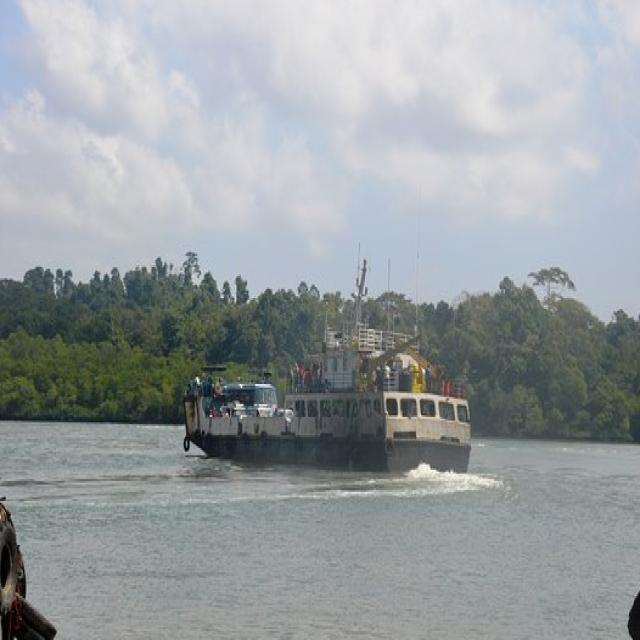fishing boat: (182, 313, 473, 479)
